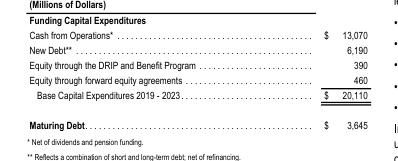table: (28, 28, 366, 130)
table column: (28, 28, 259, 130), (259, 28, 366, 130)
table row: (28, 86, 366, 109), (28, 109, 366, 130), (28, 41, 366, 56), (28, 56, 366, 71), (28, 71, 366, 86), (28, 28, 366, 41)
